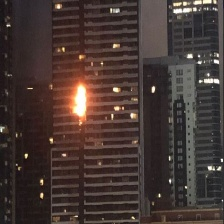fire: (70, 81, 91, 122)
